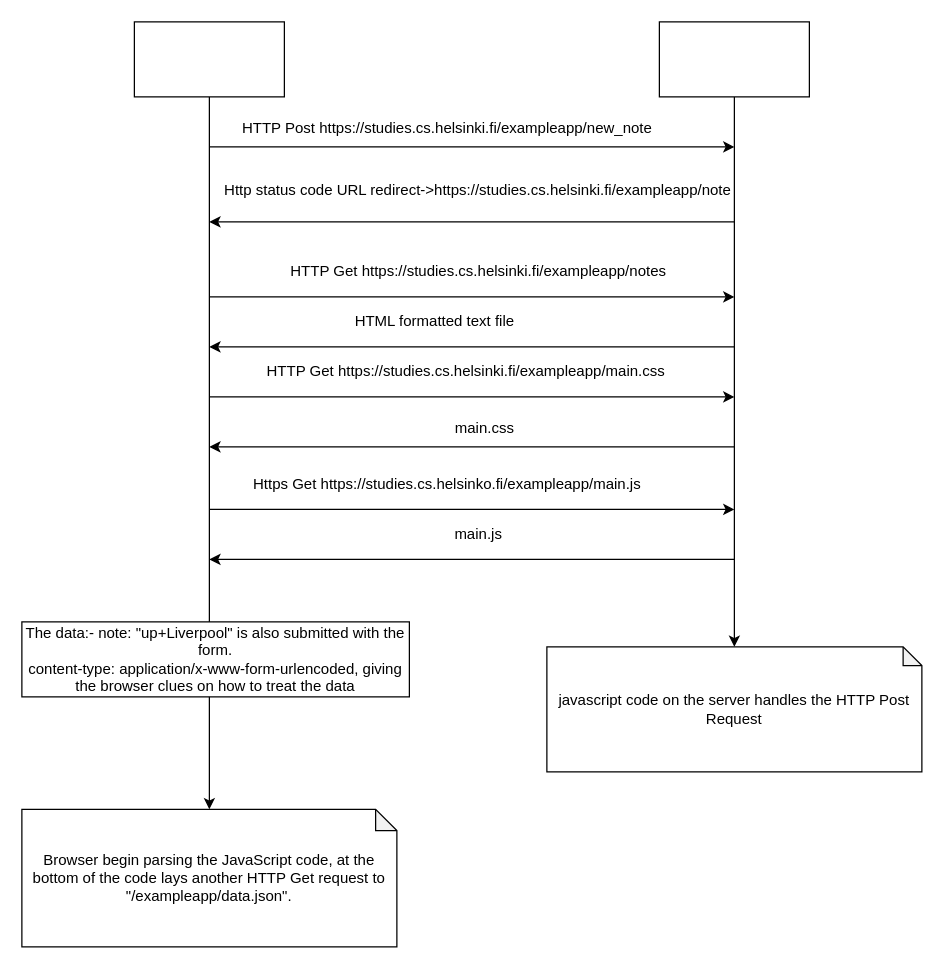
The diagram is 944 pixels wide and 969 high, and some of its shapes have lost their labels. Here are the shapes that lost their labels. From the top down, the centre of each, then its label:
At point 208,59: "Browser".
At point 733,59: "Server".
